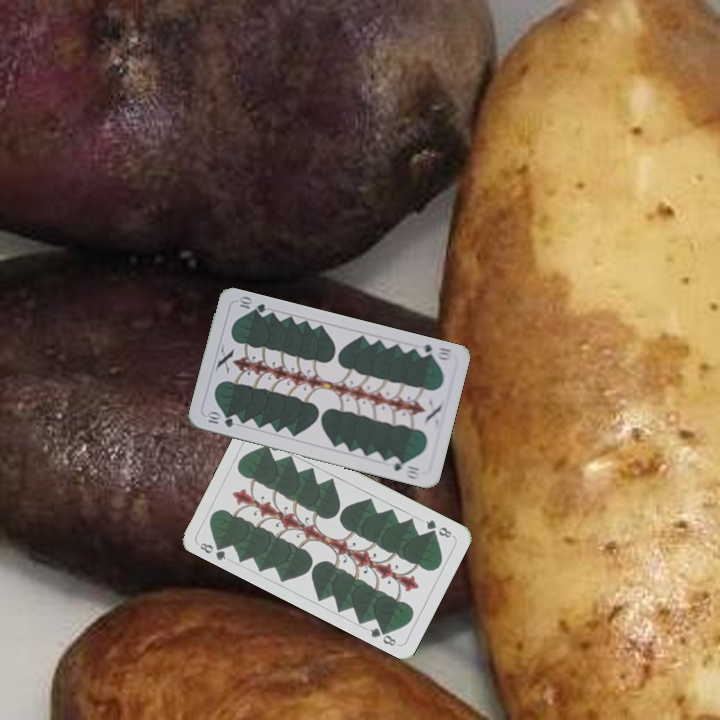G10: (413, 340, 454, 363), (203, 409, 236, 430)
G8: (196, 538, 229, 563), (422, 516, 454, 540)
